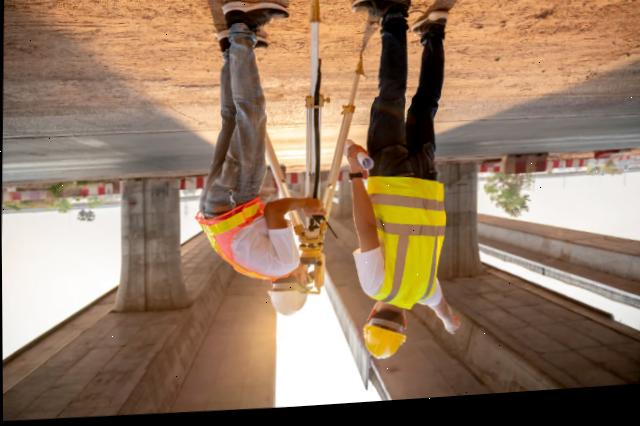helmet: (360, 329, 408, 365), (265, 287, 310, 324)
vest: (359, 183, 446, 316), (198, 198, 293, 290)
